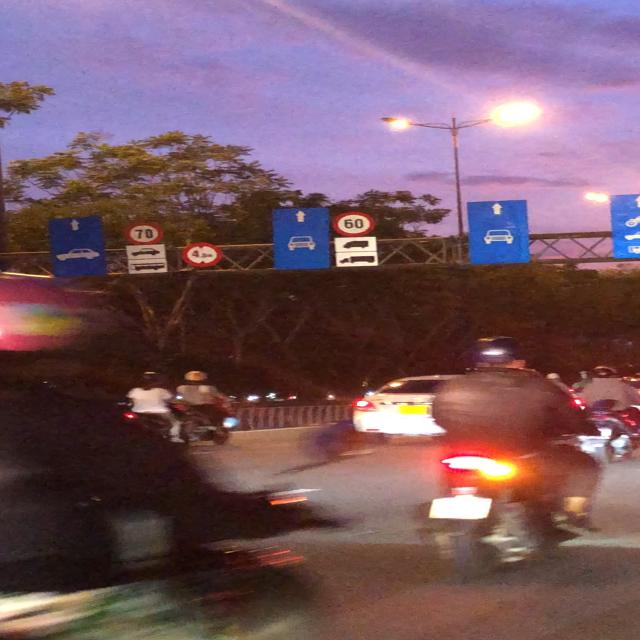Bien bao han che chieu cao: (178, 240, 224, 271)
Bien bao toc do toi da cho phep: (333, 210, 376, 238), (124, 222, 166, 246)
